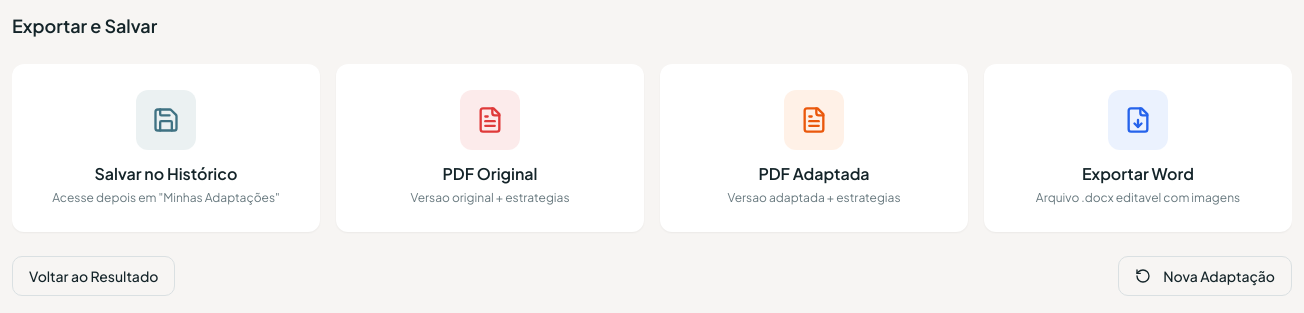
Test: StepExport – Save to History › shows 'Salvo ✓' after successful save
Click the text "Salvar no Histórico" at [166, 174], box [95,163,237,184]
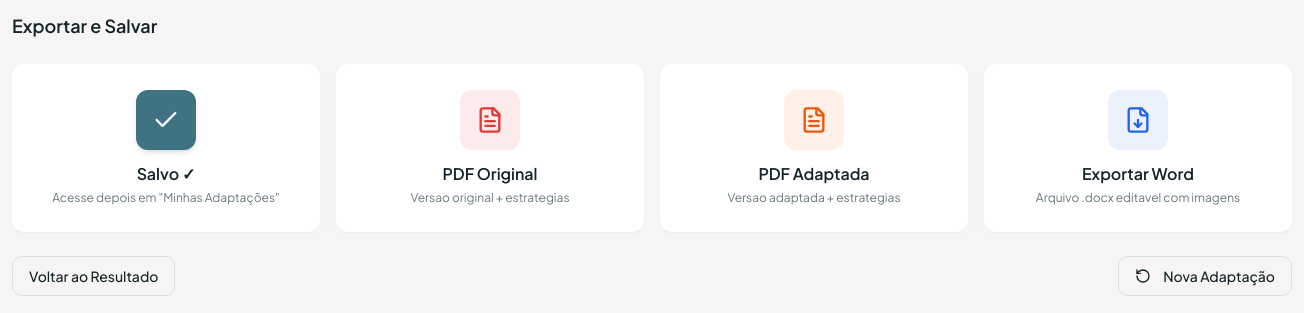
Expected: the text "Salvo ✓" is shown, [137,163,195,184]
